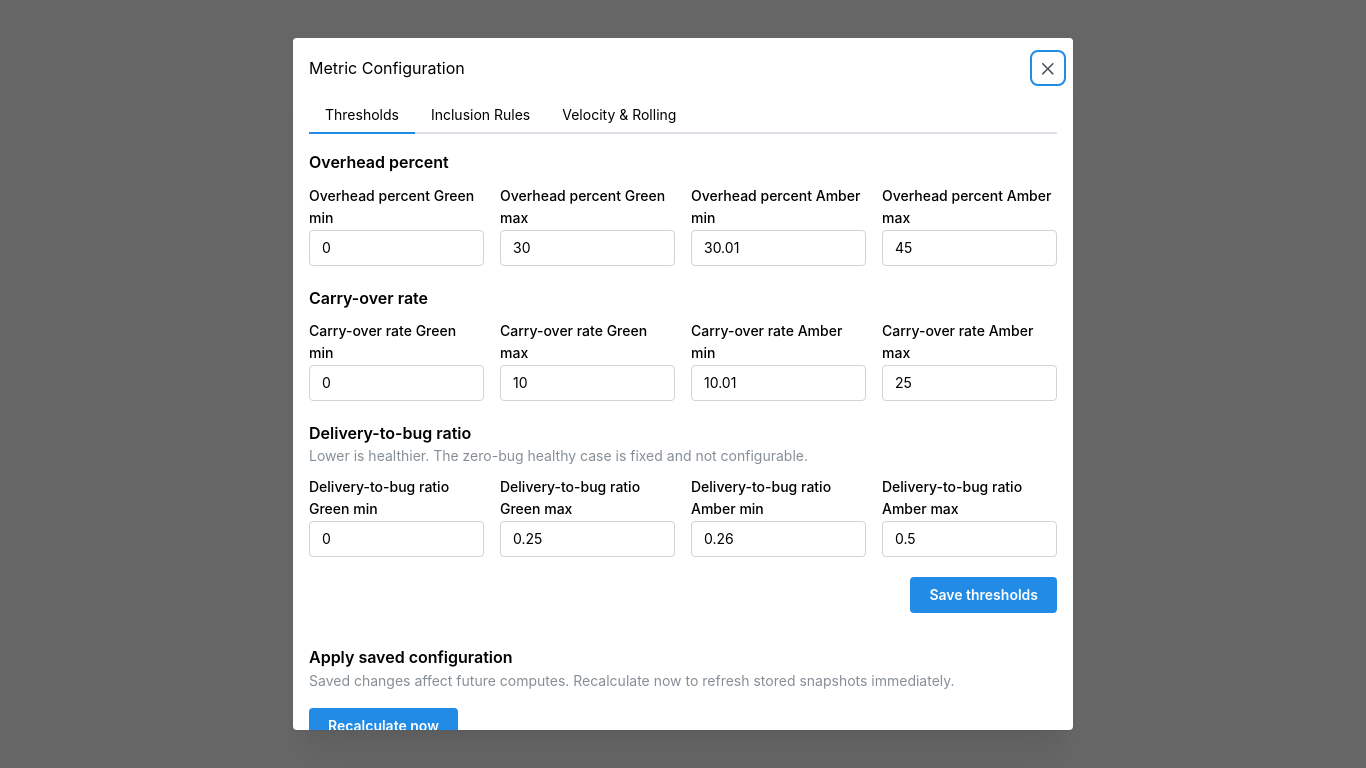
Scenario: MetricConfigPanel › treats blank numeric fields as invalid instead of zero
The width and height of the screenshot is (1366, 768).
Clear the field labelled "Overhead percent Green max" at (588, 248), box top-left (500, 230), bottom-right (675, 266)
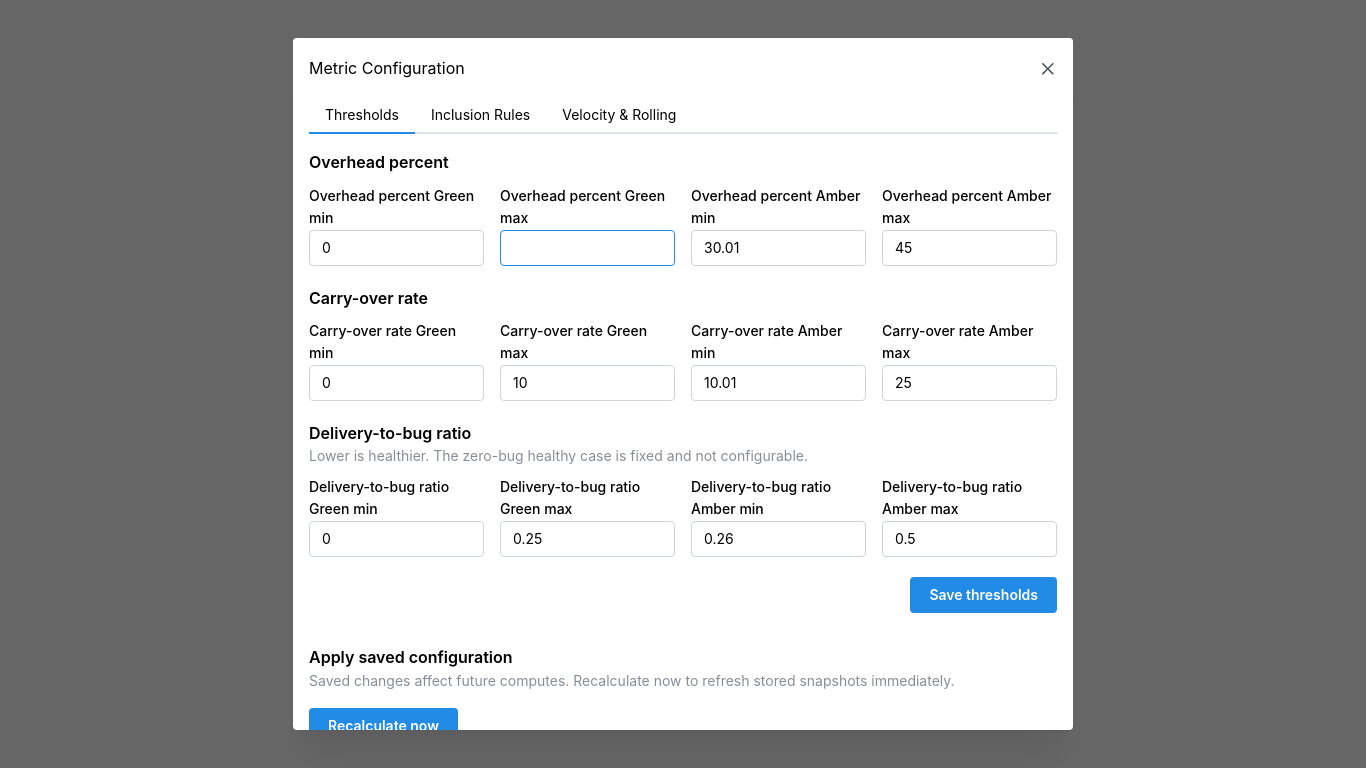
Click the button "Save thresholds" at (984, 594), box top-left (910, 576), bottom-right (1057, 612)
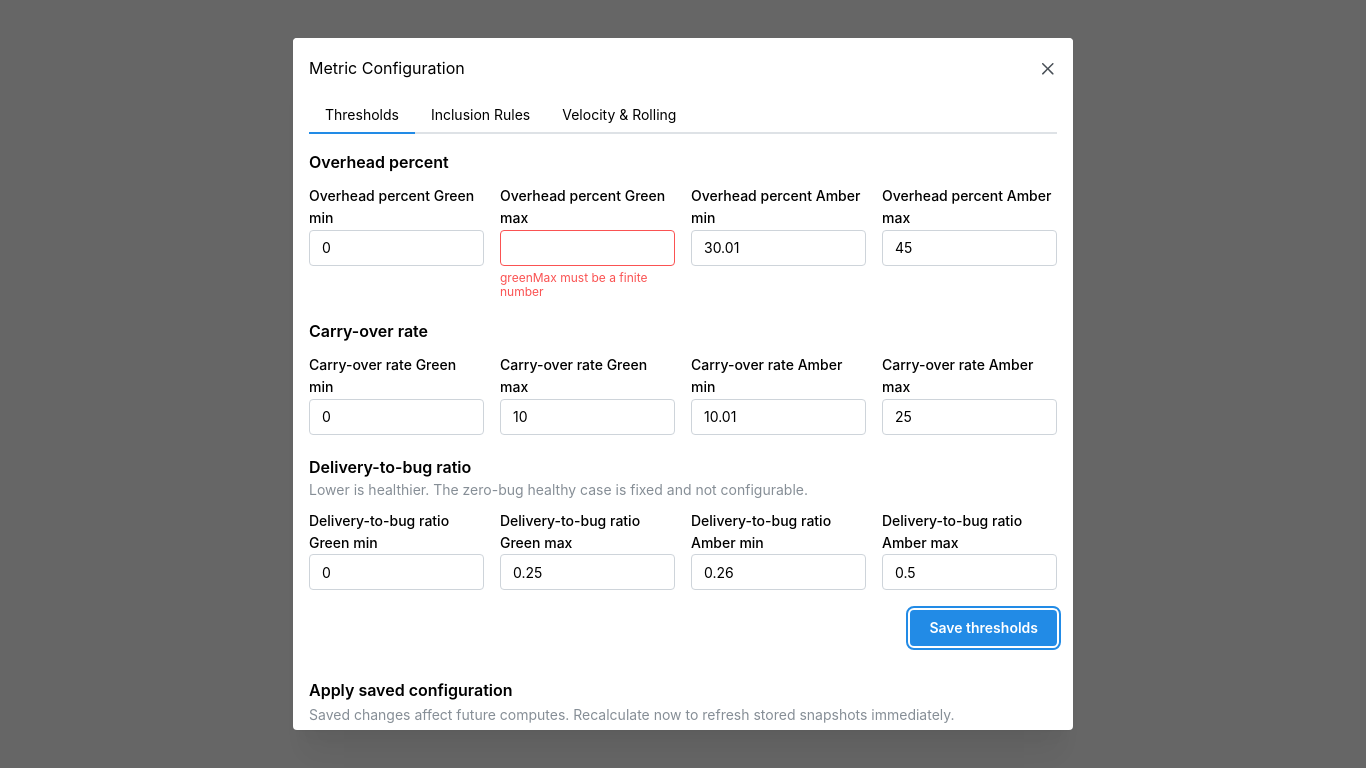
Check: the text "greenMax must be a finite number" is shown, box top-left (500, 270), bottom-right (648, 299)
